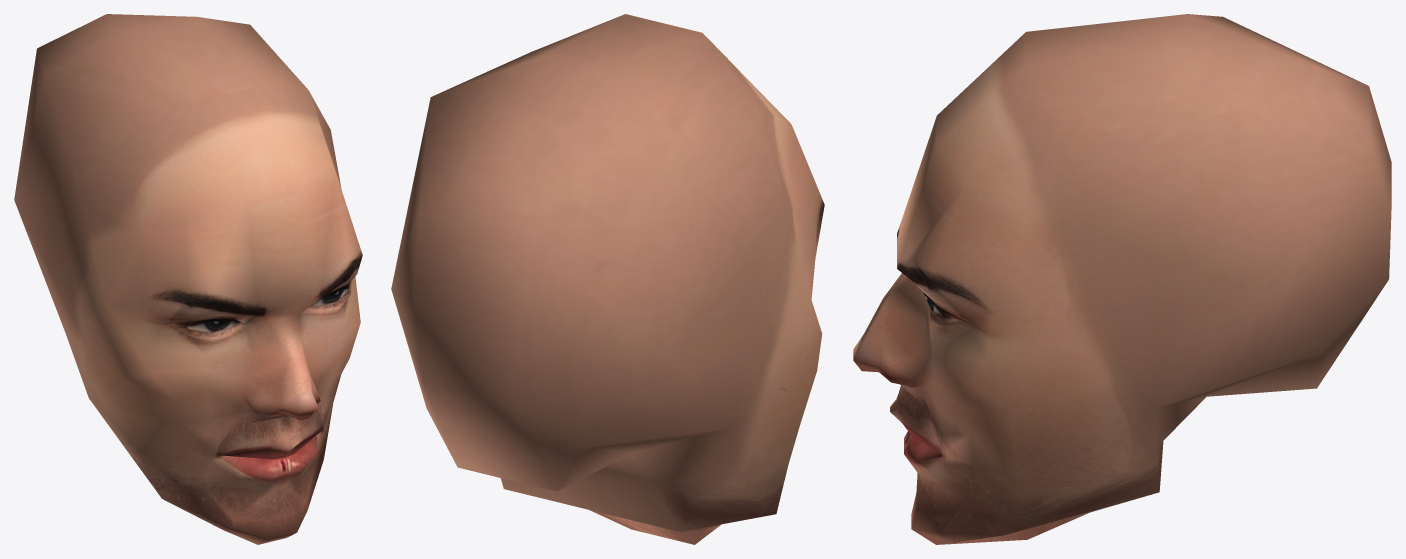
File: b_n_nord_m_head_09.glb
The picture shows the model from 3 angles, left to right: view 1: azimuth 30°, elevation 25°; view 2: azimuth 150°, elevation 25°; view 3: azimuth 270°, elevation 25°; orthographic projection. The views are drawn at different scales.
Visible parts, largest first — view 1: B_N_Nord_M_Head09.001; view 2: B_N_Nord_M_Head09.001; view 3: B_N_Nord_M_Head09.001.
Part boxes in pixels (box(x1,y1,x2,y2)): B_N_Nord_M_Head09.001: box(14, 14, 362, 544); B_N_Nord_M_Head09.001: box(391, 14, 824, 544); B_N_Nord_M_Head09.001: box(853, 14, 1391, 544).
Bounding box in the file's own units: 0.0944 × 0.1568 × 0.1518.
1 material, 1 textured.
